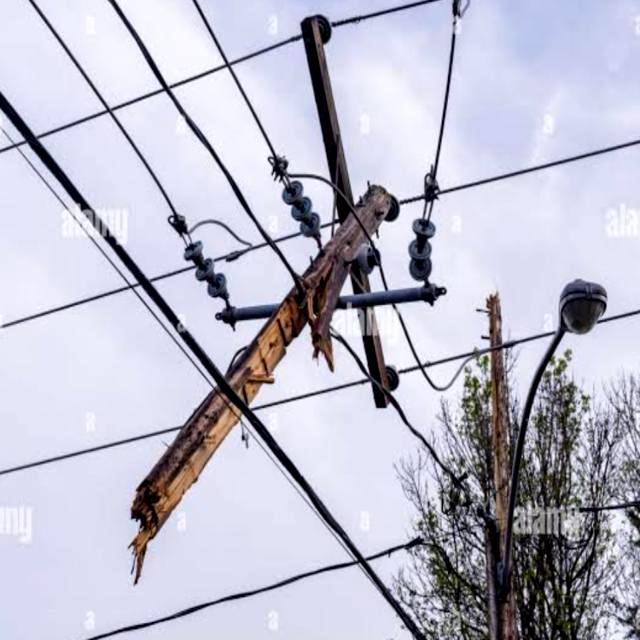Broken Pole: (129, 12, 447, 572)
